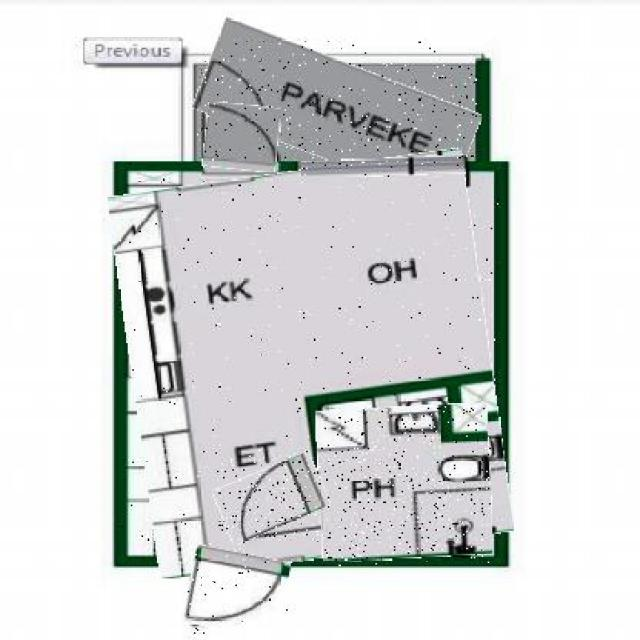door: (186, 549, 288, 634), (217, 460, 328, 537), (203, 103, 279, 171)
window: (300, 157, 466, 177)
zone: (120, 160, 502, 568), (197, 40, 477, 183), (317, 406, 491, 560)
